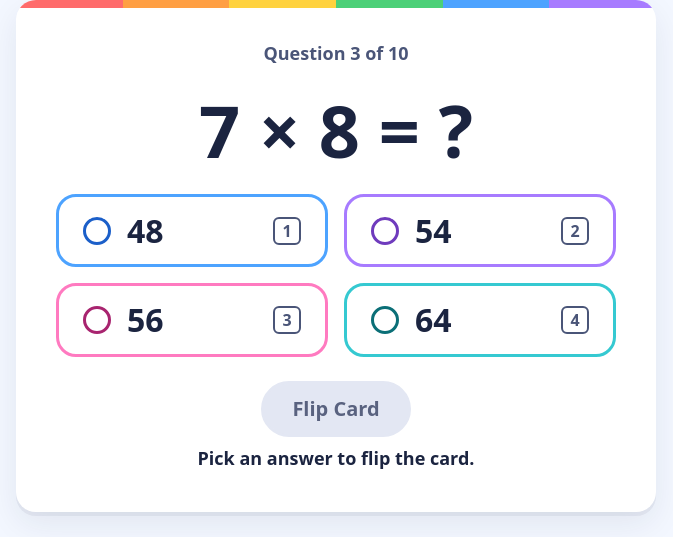
Test: QuestionCard front › can be flipped once an answer is chosen
The image size is (673, 537).
What coordinates should you click on to do the following:
click the button "54 2"
I would click on:
 (433, 231)
Its box is [344,194,616,267].
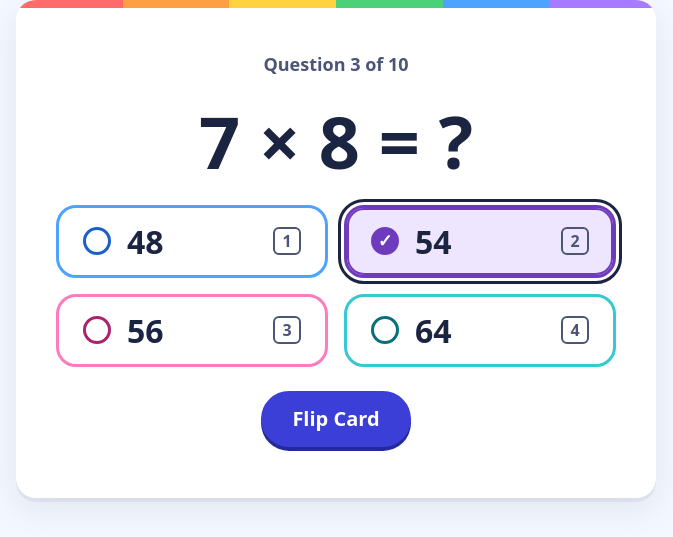
Check: the button "Flip Card" is enabled, box [261,391,411,447]
